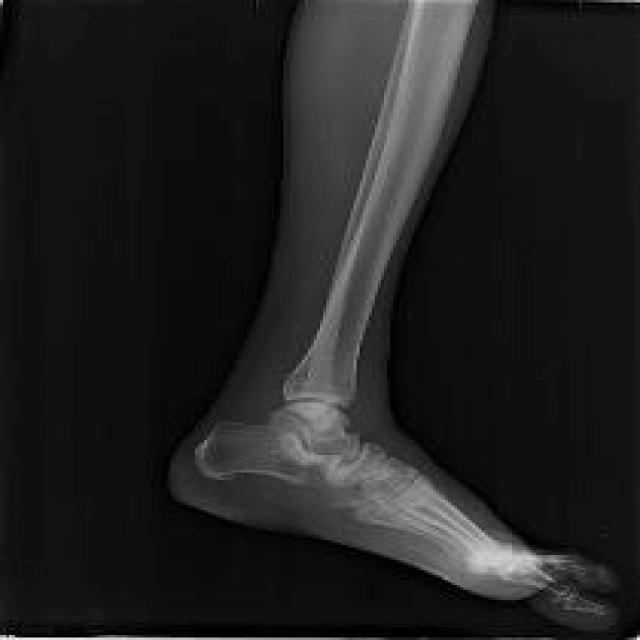normal: (189, 0, 608, 620)
